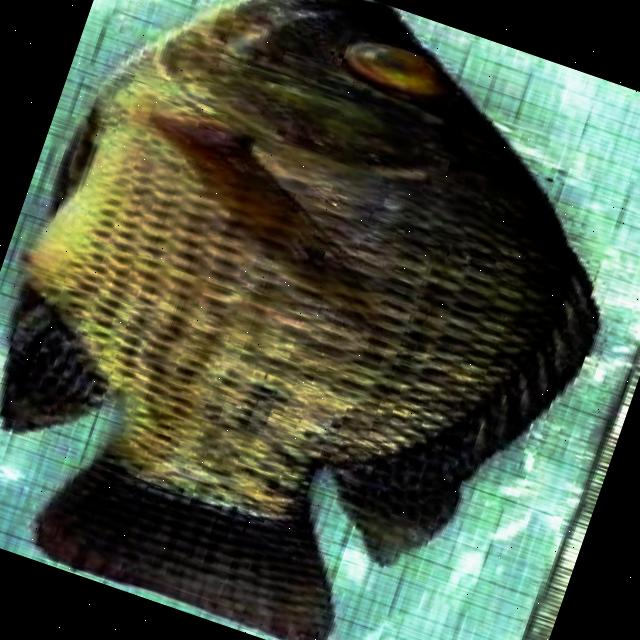Tilapia Lake Virus -TiLV-: (0, 0, 598, 640)
